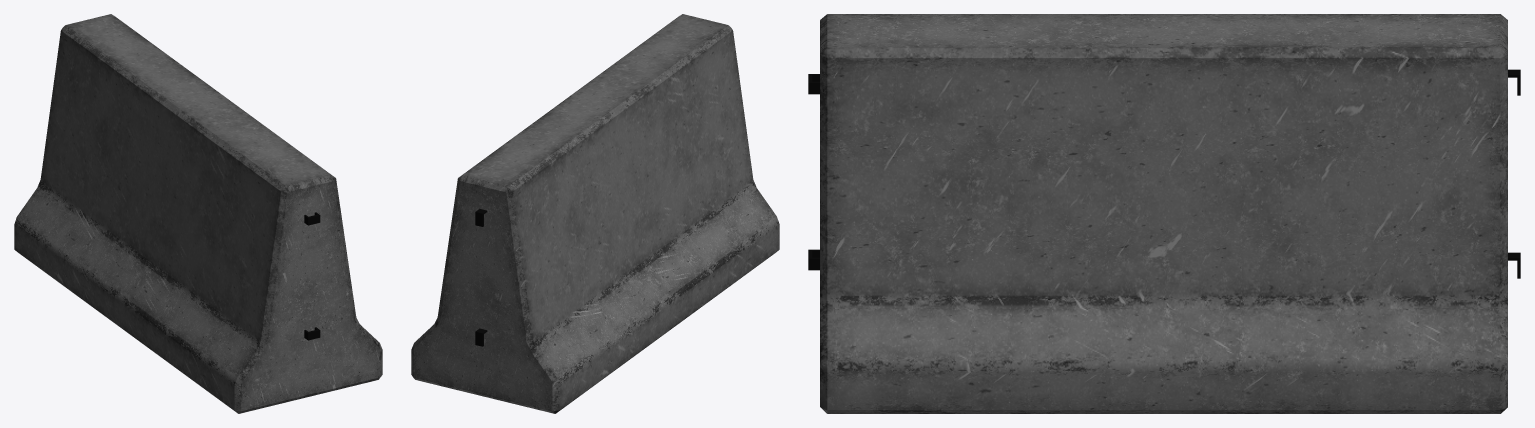
Rendered from uploads_files_3661633_Barrier.obj.
The picture shows the model from 3 angles, left to right: view 1: azimuth 30°, elevation 25°; view 2: azimuth 150°, elevation 25°; view 3: azimuth 270°, elevation 25°; orthographic projection. The views are drawn at different scales.
Visible parts, largest first — view 1: Cube.005; view 2: Cube.005; view 3: Cube.005.
Boxes of the visible parts, <box> form: Cube.005: <box>14,14,382,413</box>; Cube.005: <box>411,14,779,413</box>; Cube.005: <box>820,14,1507,413</box>.
Bounding box in the file's own units: 0.6484 × 0.9046 × 1.77.
